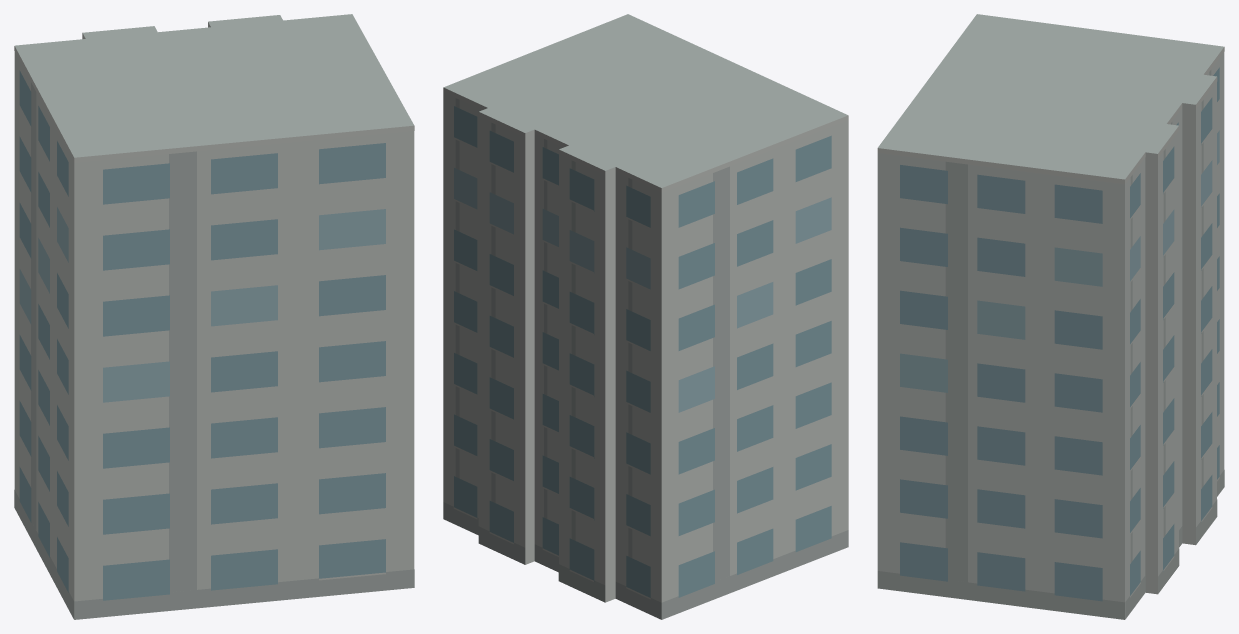
File: survey-upis-32539296.glb
The picture shows the model from 3 angles, left to right: view 1: azimuth 30°, elevation 25°; view 2: azimuth 150°, elevation 25°; view 3: azimuth 270°, elevation 25°; orthographic projection. The views are drawn at different scales.
Parts seen in each view (by area): view 1: survey-upis-32539296.tmp; view 2: survey-upis-32539296.tmp; view 3: survey-upis-32539296.tmp.
Part boxes in pixels (x1,y1,x2,y2): survey-upis-32539296.tmp: (14, 14, 414, 619); survey-upis-32539296.tmp: (443, 14, 848, 619); survey-upis-32539296.tmp: (877, 14, 1224, 619).
Bounding box in the file's own units: 17.22 × 21.35 × 15.25.
